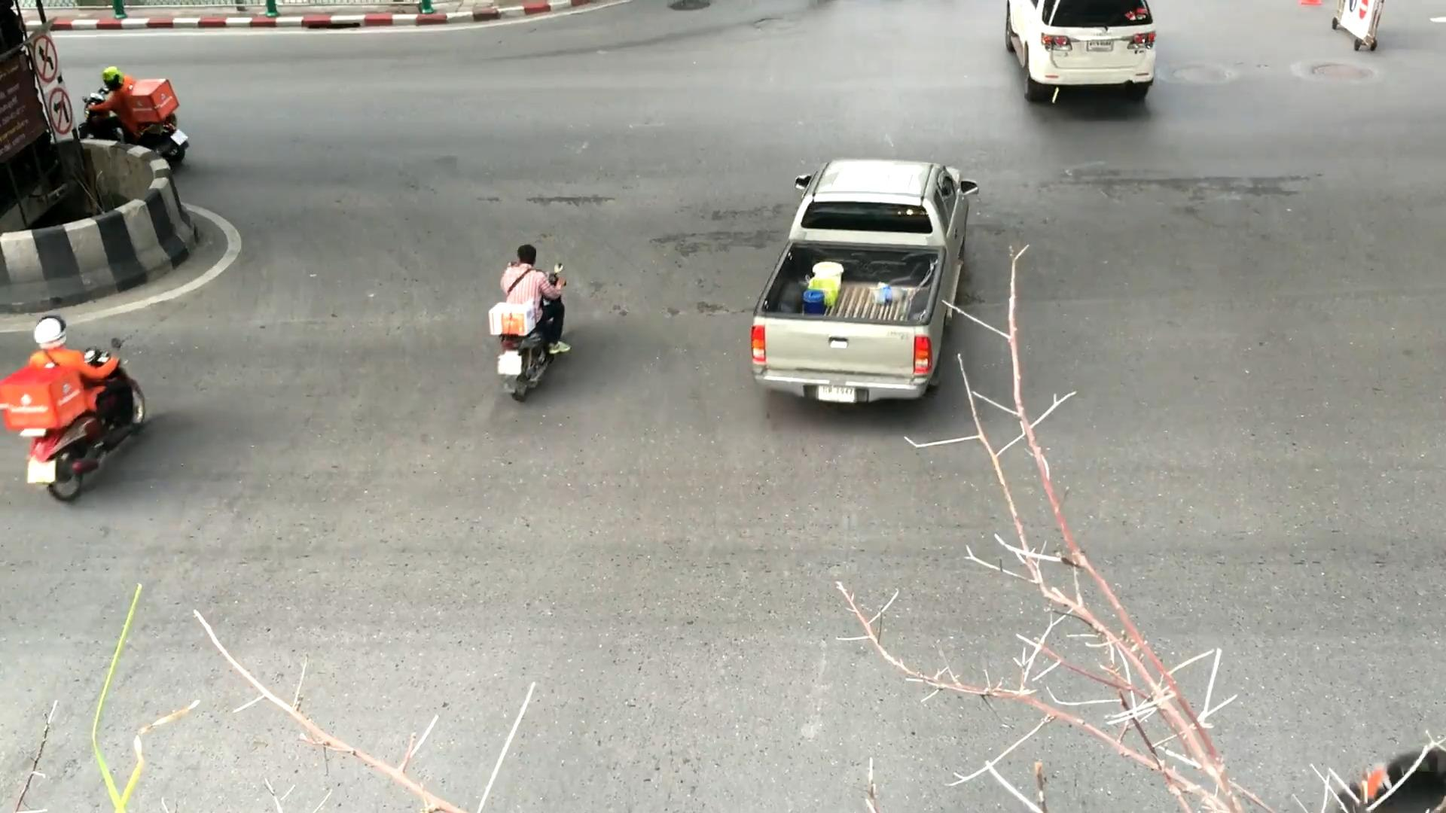driver: (0, 314, 145, 502), (489, 244, 572, 403), (78, 66, 189, 169)
helmet: (34, 314, 67, 350), (102, 66, 124, 91)
no-helmet: (517, 244, 536, 266)
